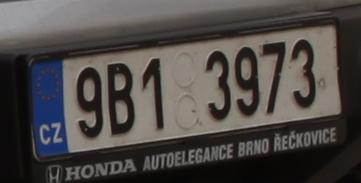1: (143, 59, 173, 130)
3: (290, 40, 318, 108), (204, 49, 230, 121)
7: (263, 40, 288, 116)
9: (75, 66, 103, 137), (235, 46, 260, 117)
B: (106, 63, 137, 135)
